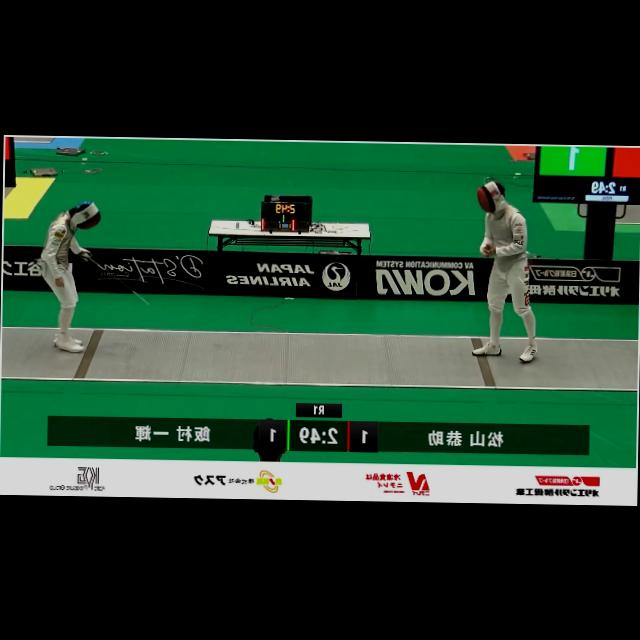blade: (77, 252, 156, 310)
